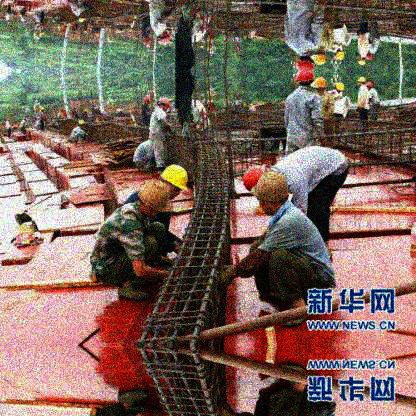helmet: (250, 171, 289, 214), (138, 178, 169, 218), (160, 164, 189, 201), (297, 69, 314, 89), (311, 76, 327, 96), (310, 52, 327, 65), (296, 56, 314, 68), (156, 32, 170, 46), (158, 98, 170, 112), (334, 82, 345, 91), (358, 56, 366, 67), (78, 120, 86, 130), (336, 51, 344, 60), (367, 81, 375, 89), (367, 53, 374, 62), (357, 76, 366, 83), (144, 38, 152, 45), (144, 99, 149, 106)
